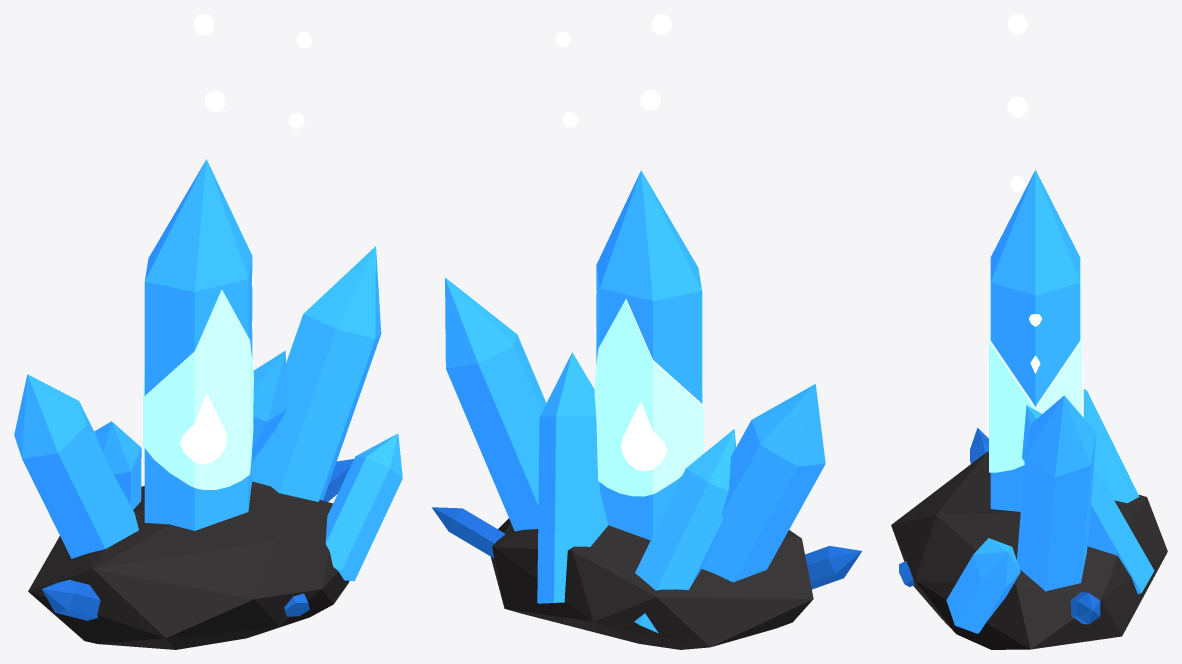
The model's file is aqua_crystalline.glb.
3 views of the same model, side by side, from view 1: azimuth 30°, elevation 25°; view 2: azimuth 150°, elevation 25°; view 3: azimuth 270°, elevation 25° (orthographic). The views are drawn at different scales.
Visible parts, largest first — view 1: aqua_crystalline; view 2: aqua_crystalline; view 3: aqua_crystalline.
Boxes of the visible parts, bbox=[...] form: aqua_crystalline: bbox=[14, 14, 402, 649]; aqua_crystalline: bbox=[432, 14, 861, 649]; aqua_crystalline: bbox=[891, 14, 1167, 649].
Bounding box in the file's own units: 0.1882 × 0.28 × 0.1226.
